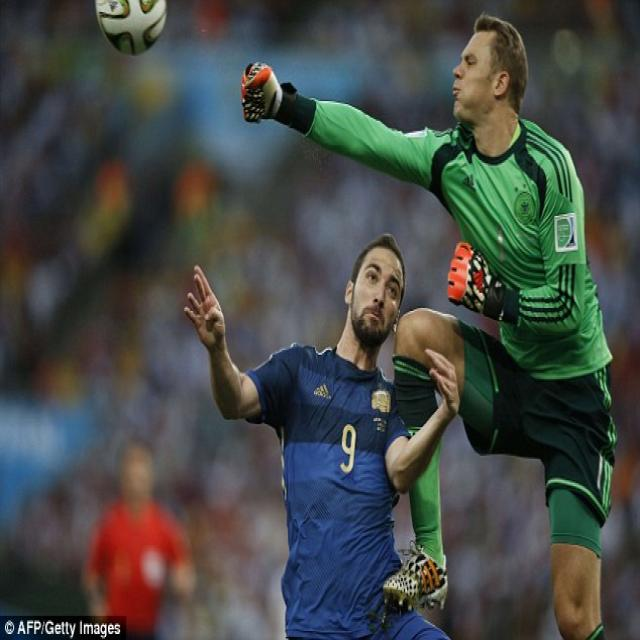collide: (378, 320, 468, 484)
like-hurt: (453, 23, 493, 130)
possible foul: (221, 14, 636, 603)
